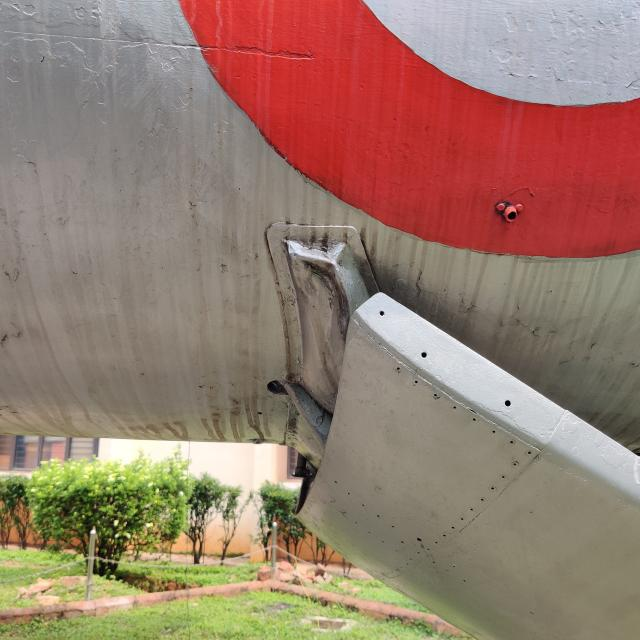dent: (273, 233, 358, 388)
